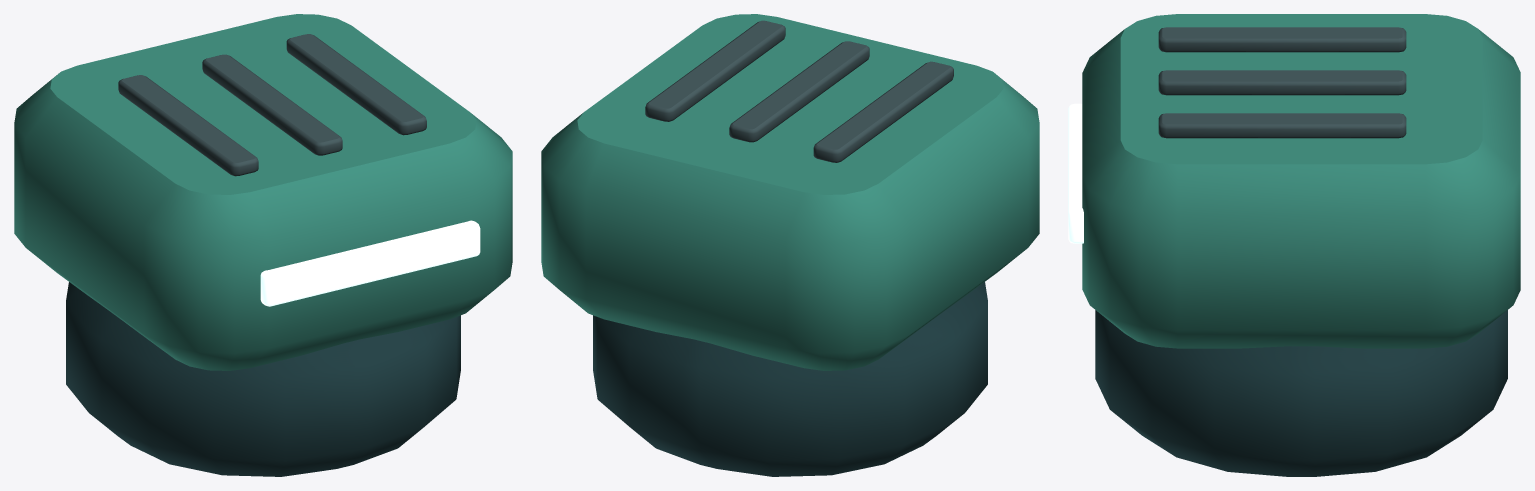
Rendered from service_console.glb.
The picture shows the model from 3 angles, left to right: view 1: azimuth 30°, elevation 25°; view 2: azimuth 150°, elevation 25°; view 3: azimuth 270°, elevation 25°; orthographic projection. The views are drawn at different scales.
Parts seen in each view (by area): view 1: Service_console; view 2: Service_console; view 3: Service_console.
Part boxes in pixels (box(x1,y1,x2,y2)): Service_console: box(14, 14, 512, 476); Service_console: box(541, 14, 1039, 476); Service_console: box(1068, 14, 1520, 476).
Size of the model in its own units: 0.68 by 0.573 by 0.7125.
